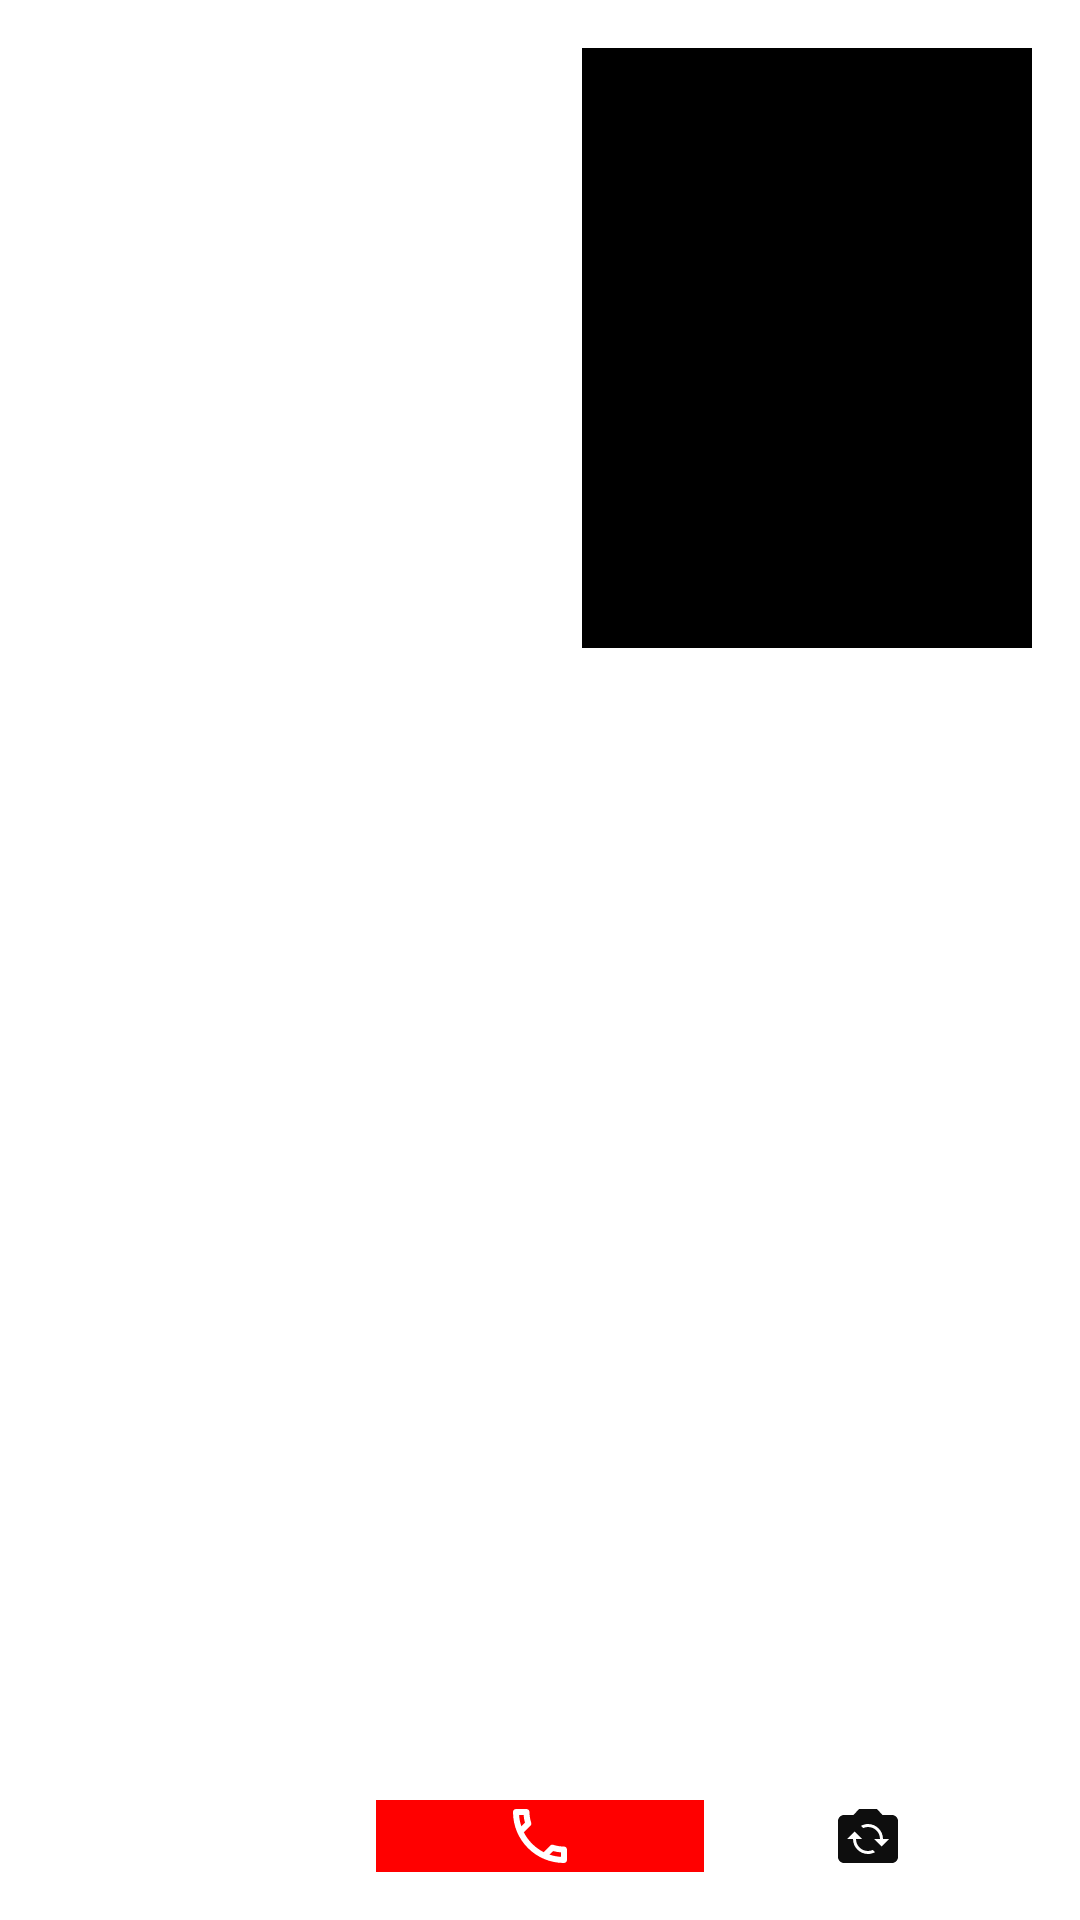

Screen size 1080*1920. Icon name, then its box in pixels as (x1, y1, x2, y2):
flip camera: (838, 1809, 898, 1863)
phone: (376, 1800, 704, 1872)
